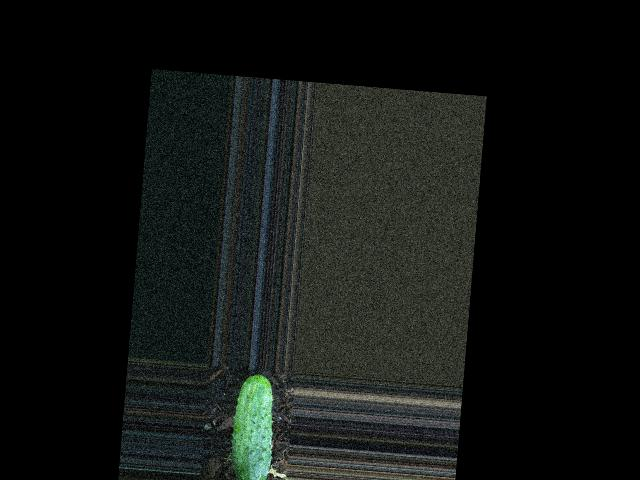cucumber: (228, 372, 278, 480)
